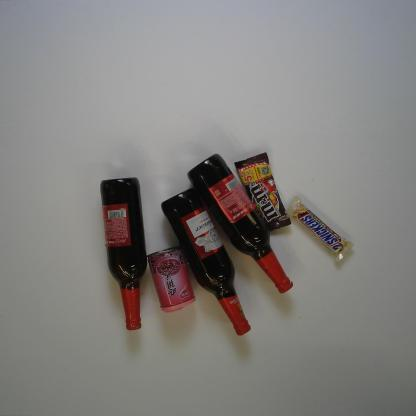Alcohol: (186, 152, 294, 294), (160, 187, 252, 337), (99, 176, 148, 332)
Canned Food: (146, 246, 197, 315)
Chocolate: (233, 151, 292, 233), (286, 194, 355, 263)
